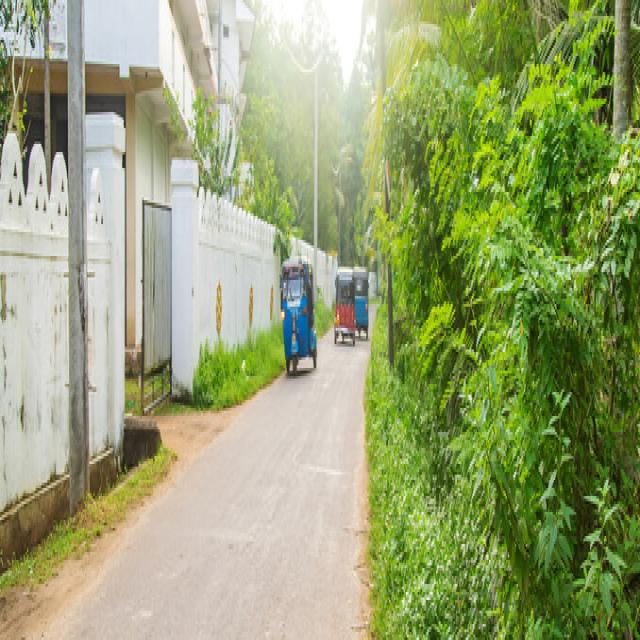three wheeler: (281, 253, 316, 373), (334, 267, 354, 344), (354, 267, 368, 336)
